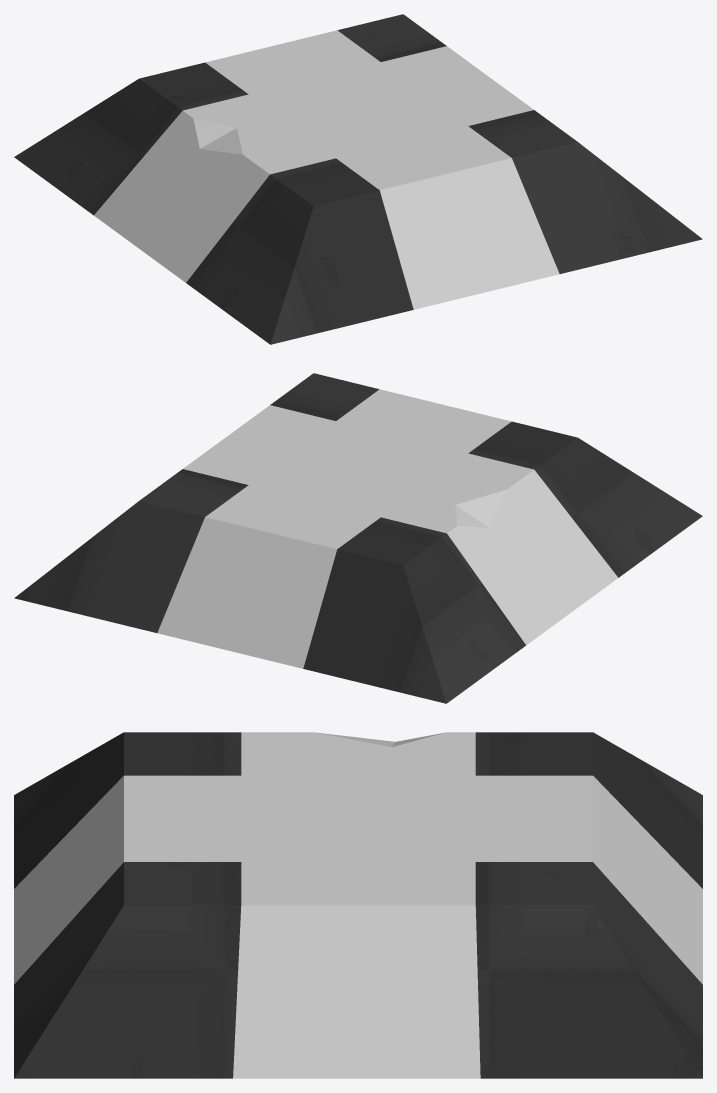
Rendered from SM_Prop_Cable_Cover_End_01.fbx.
3 renders of one model, top to bottom at view 1: azimuth 30°, elevation 25°; view 2: azimuth 150°, elevation 25°; view 3: azimuth 270°, elevation 25°, orthographic. The views are drawn at different scales.
Visible parts, largest first — view 1: SM_Prop_Cable_Cover_End_01; view 2: SM_Prop_Cable_Cover_End_01; view 3: SM_Prop_Cable_Cover_End_01.
Boxes of the visible parts, left/top/right/bottom form: SM_Prop_Cable_Cover_End_01: left=14, top=14, right=702, bottom=344; SM_Prop_Cable_Cover_End_01: left=14, top=373, right=702, bottom=703; SM_Prop_Cable_Cover_End_01: left=14, top=732, right=702, bottom=1078.
Bounding box in the file's own units: 64.37 × 12.51 × 66.11.
